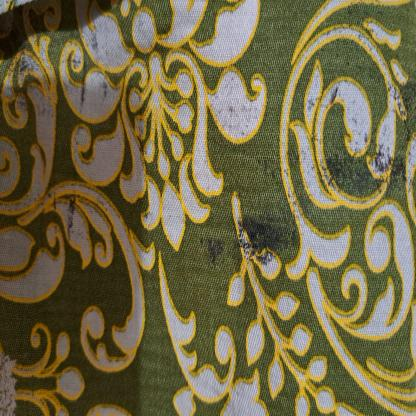spot: (238, 191, 298, 270), (307, 107, 348, 195), (358, 136, 406, 198), (70, 47, 106, 112), (383, 67, 416, 123), (59, 184, 87, 236), (15, 52, 44, 102), (198, 233, 229, 271)
